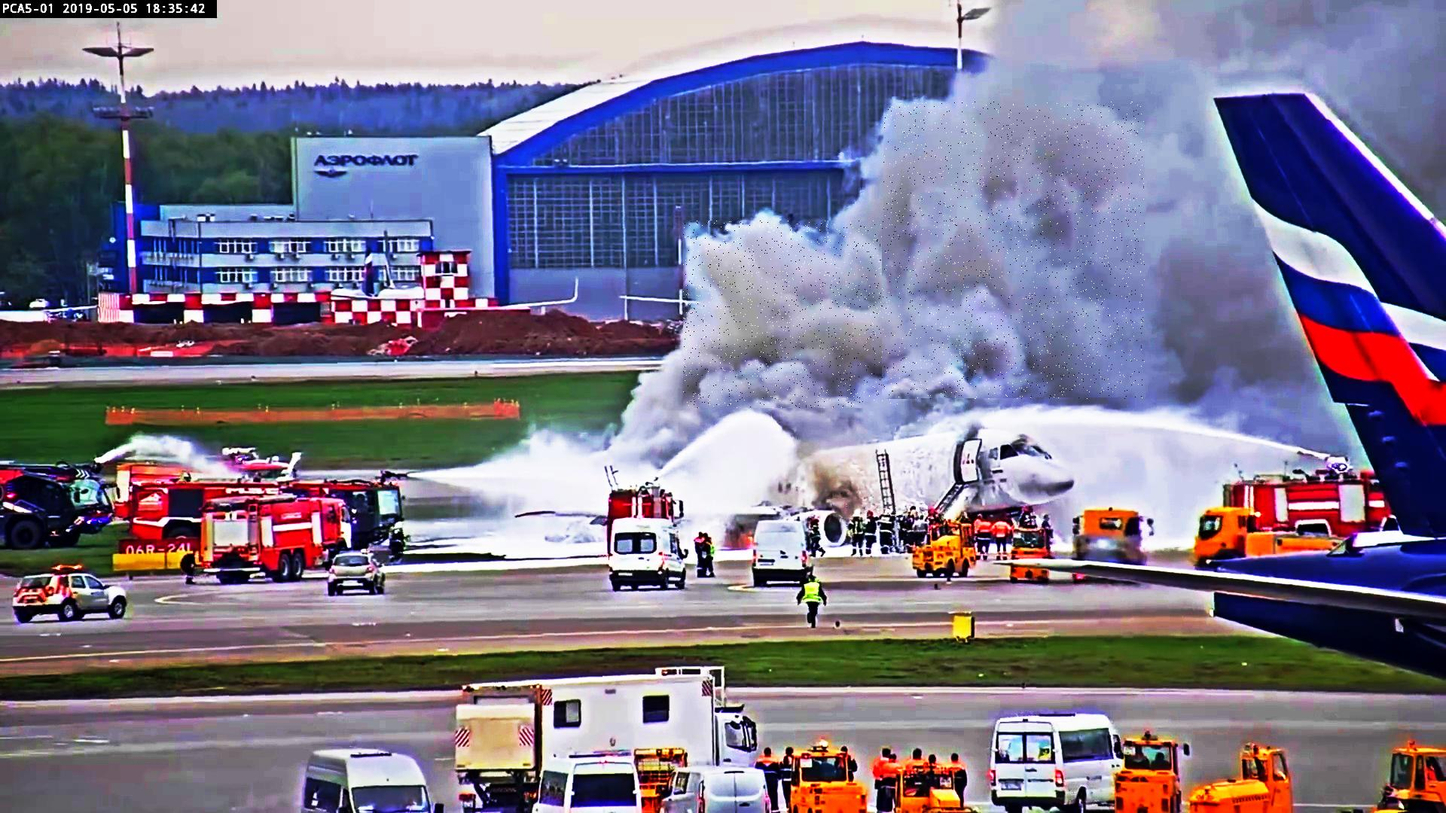smoke: (884, 102, 1145, 399), (684, 221, 898, 408)
